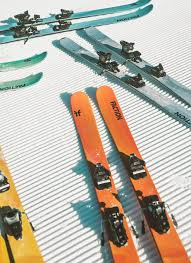skis: (69, 85, 191, 263), (56, 27, 191, 126), (1, 1, 153, 44), (1, 147, 45, 263), (1, 51, 47, 91)
